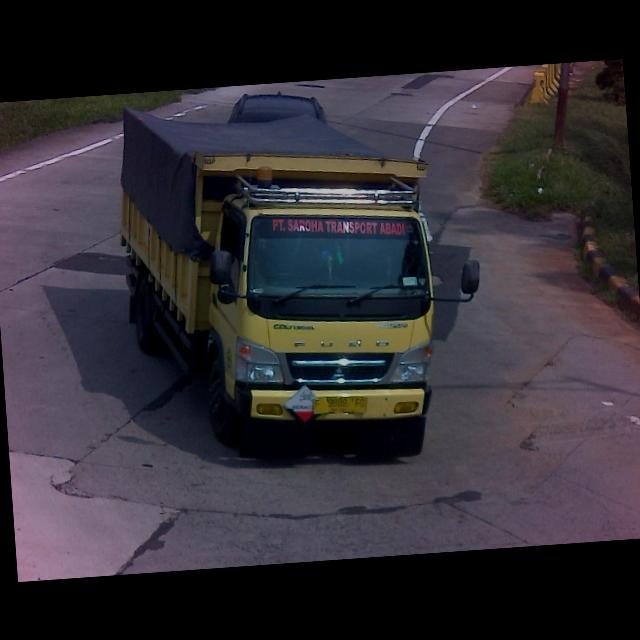plate: (308, 390, 370, 418)
